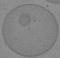small: (18, 12, 30, 25)
